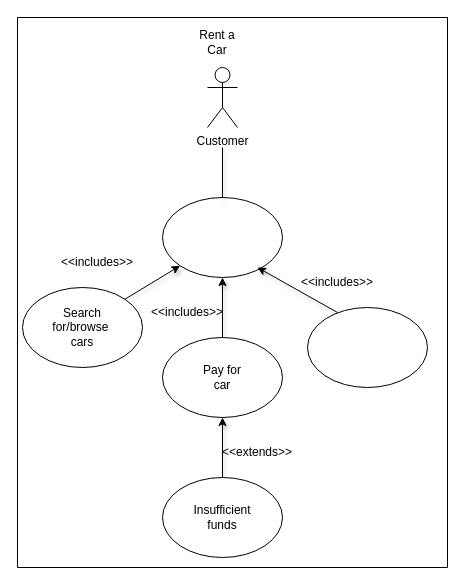
Some shapes in this 465 by 585 pixel diagram are drawn without their labels. Here are the shapes that lost their labels. From the top down, the centre of each, then its label:
point 222,237: Reserve car
point 367,347: Log into site
